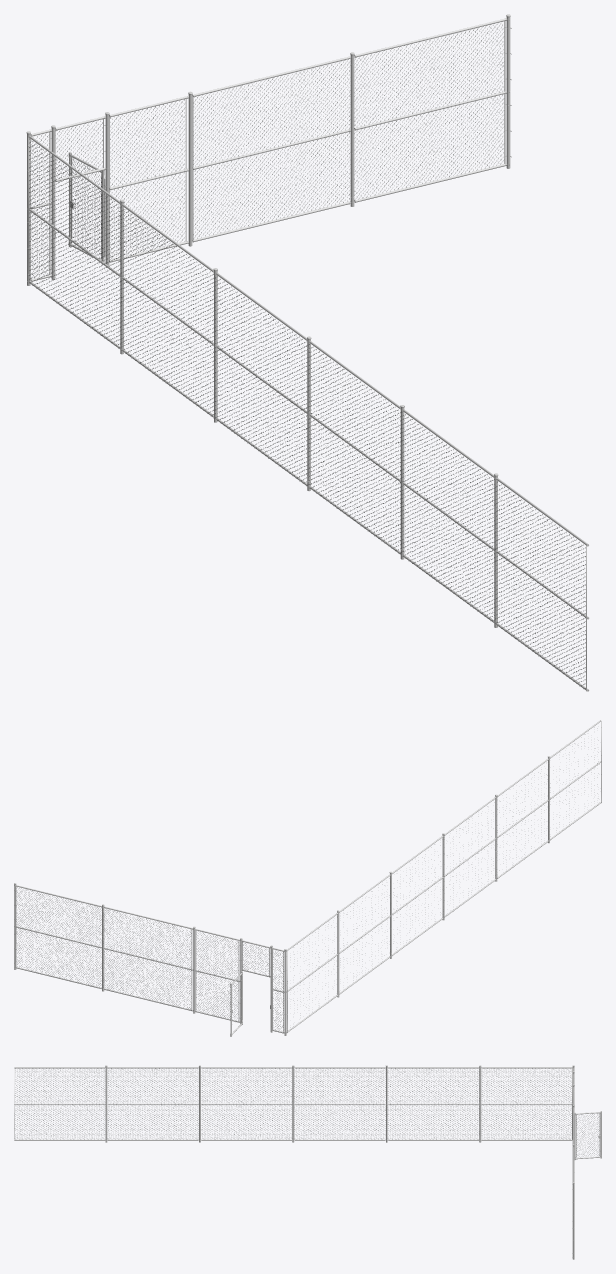
File: courtOutside3.fbx
The picture shows the model from 3 angles, top to bottom: view 1: azimuth 30°, elevation 25°; view 2: azimuth 150°, elevation 25°; view 3: azimuth 270°, elevation 25°; orthographic projection. The views are drawn at different scales.
Parts seen in each view (by area): view 1: Fence_Side, Fence_Front, Fence_Front_Door; view 2: Fence_Front, Fence_Side; view 3: Fence_Side, Fence_Front_Door, Fence_Front.
Part boxes in pixels (bbox=[...]): Fence_Side: bbox=[28, 136, 589, 691]; Fence_Front: bbox=[26, 14, 511, 285]; Fence_Front_Door: bbox=[68, 152, 105, 262]; Fence_Front: bbox=[14, 883, 287, 1035]; Fence_Side: bbox=[286, 720, 601, 1032]; Fence_Side: bbox=[14, 1065, 572, 1142]; Fence_Front_Door: bbox=[574, 1111, 601, 1159]; Fence_Front: bbox=[572, 1065, 574, 1259].
Bounding box in the file's own units: 1287 × 390 × 2711.
